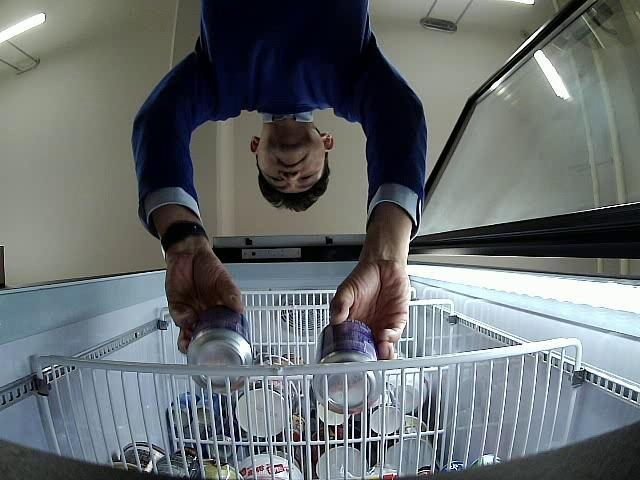14_welchsGrape: (312, 319, 382, 414), (188, 305, 252, 394)
